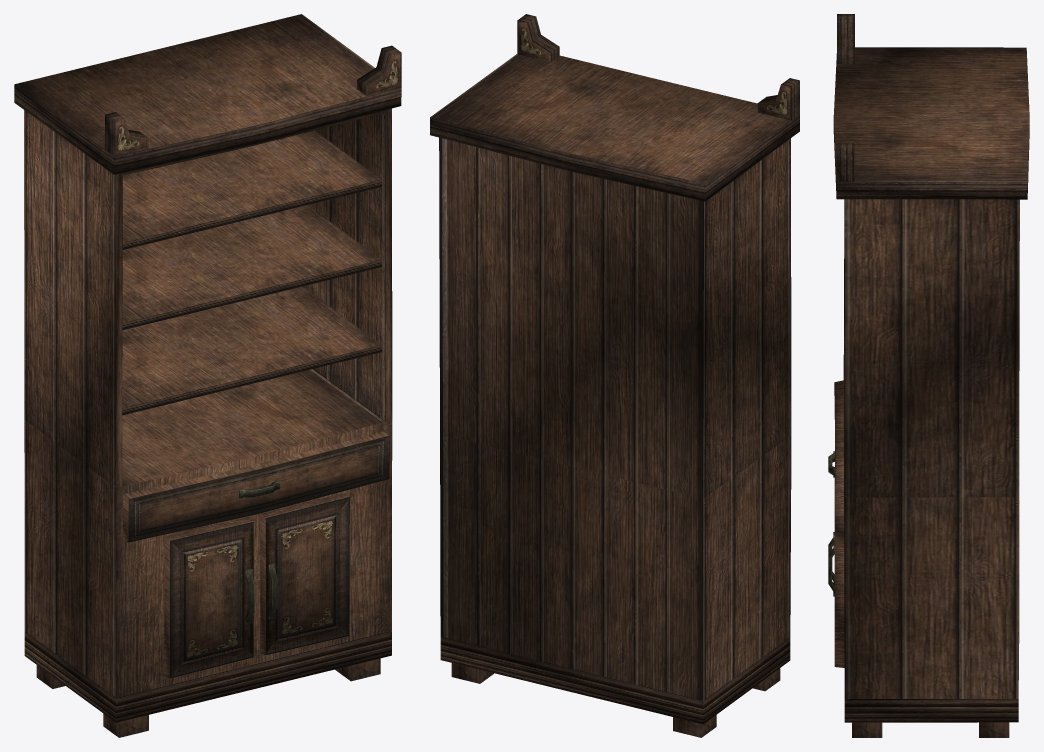
File: GS_VOB_RICHSHELF_ORANGE_01_KOZA.glb
3 views of the same model, side by side, from view 1: azimuth 30°, elevation 25°; view 2: azimuth 150°, elevation 25°; view 3: azimuth 270°, elevation 25° (orthographic). The views are drawn at different scales.
Parts seen in each view (by area): view 1: Mesh; view 2: Mesh; view 3: Mesh.
Boxes of the visible parts, bbox=[...] form: Mesh: bbox=[14, 14, 401, 737]; Mesh: bbox=[430, 14, 799, 737]; Mesh: bbox=[828, 14, 1029, 737].
Size of the model in its own units: 1.48 by 3.08 by 0.9415.
Materials: 4 (4 with a texture image).
